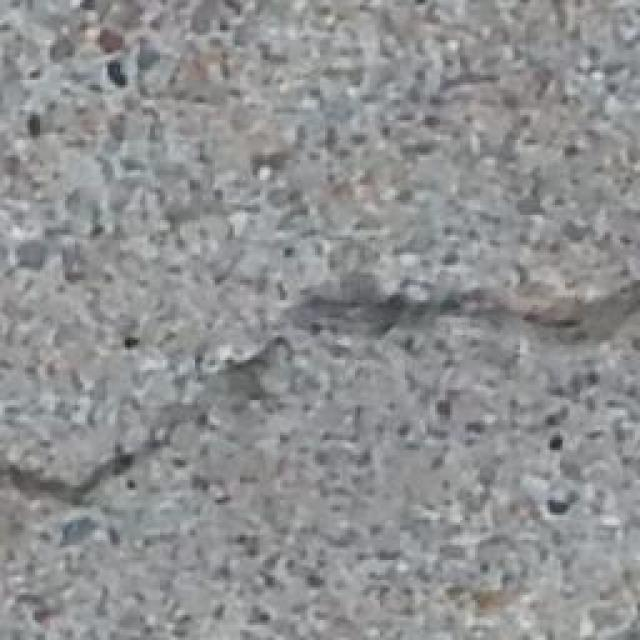concrete-crack: (4, 274, 640, 514)
